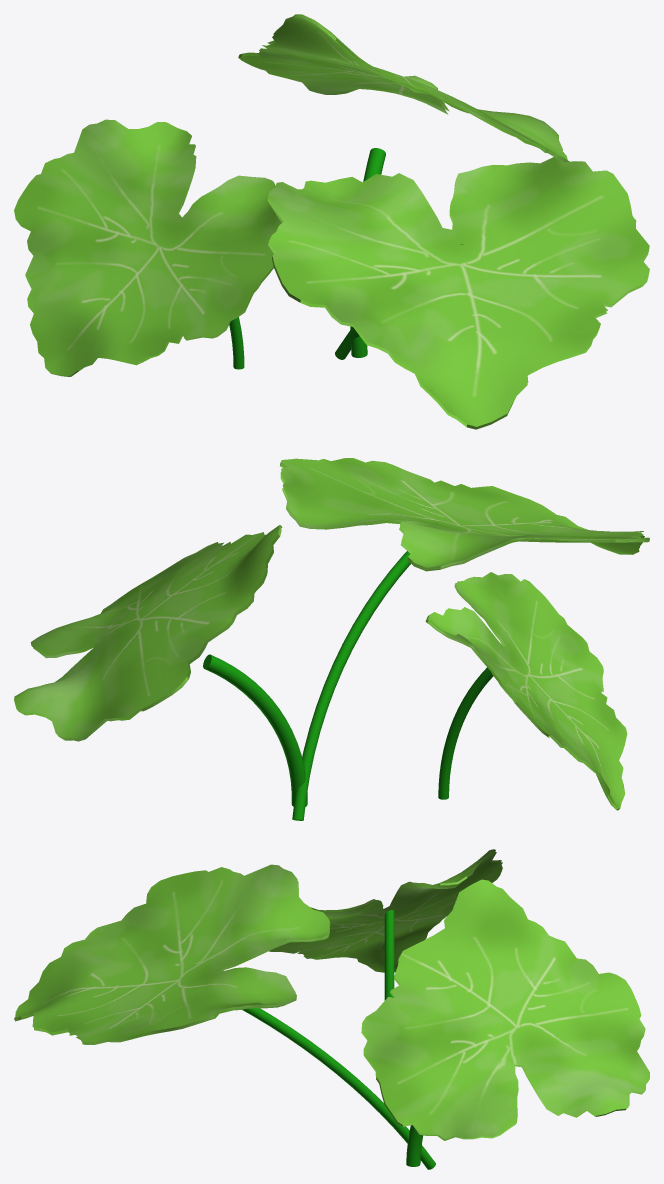
File: 新生長1.FBX
3 renders of one model, top to bottom at view 1: azimuth 30°, elevation 25°; view 2: azimuth 150°, elevation 25°; view 3: azimuth 270°, elevation 25°, orthographic. The views are drawn at different scales.
Parts seen in each view (by area): view 1: Box003, Box002, Box001, Cylinder003, Cylinder001; view 2: Box001, Box003, Box002, Cylinder002, Cylinder003, Cylinder001; view 3: Box001, Box003, Box002, Cylinder002, Cylinder001, Cylinder003.
Boxes of the visible parts, left/top/right/bottom form: Box003: left=267, top=157, right=649, bottom=429; Box002: left=14, top=119, right=281, bottom=376; Box001: left=238, top=14, right=569, bottom=161; Cylinder003: left=350, top=148, right=385, bottom=357; Cylinder001: left=175, top=224, right=244, bottom=369; Box001: left=14, top=525, right=282, bottom=741; Box003: left=280, top=458, right=649, bottom=571; Box002: left=425, top=572, right=627, bottom=810; Cylinder002: left=292, top=523, right=437, bottom=820; Cylinder003: left=203, top=654, right=307, bottom=806; Cylinder001: left=438, top=653, right=510, bottom=799; Box001: left=361, top=879, right=649, bottom=1140; Box003: left=14, top=864, right=330, bottom=1044; Box002: left=269, top=849, right=502, bottom=972; Cylinder002: left=200, top=977, right=435, bottom=1169; Cylinder001: left=384, top=909, right=394, bottom=1000; Cylinder003: left=406, top=1125, right=423, bottom=1166.
Bounding box in the file's own units: 12.84 × 7.22 × 14.62.
2 materials, 1 textured.
